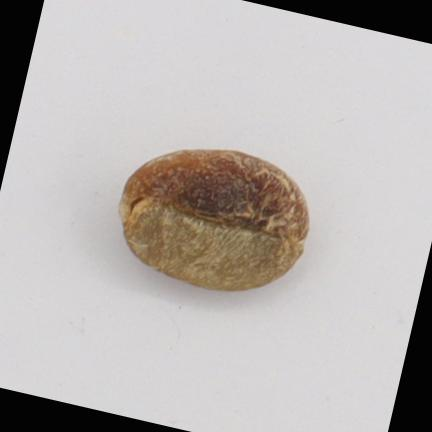partial-black: (119, 150, 309, 290)
